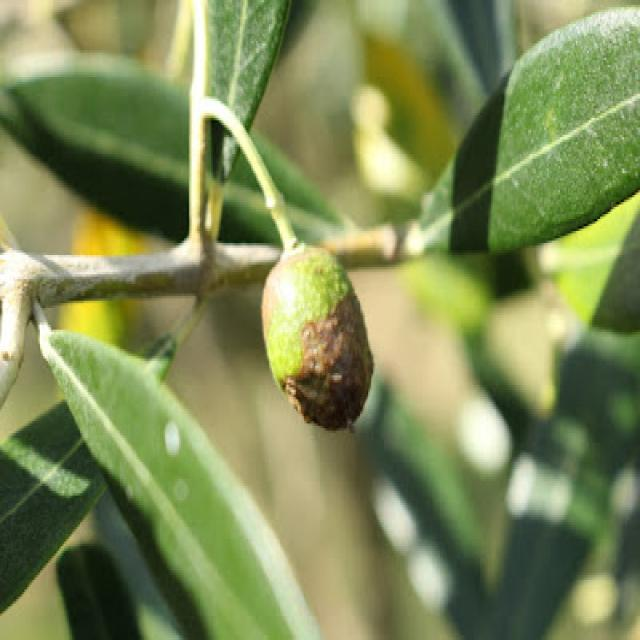Olive Fruit Fly: (261, 243, 373, 436)
